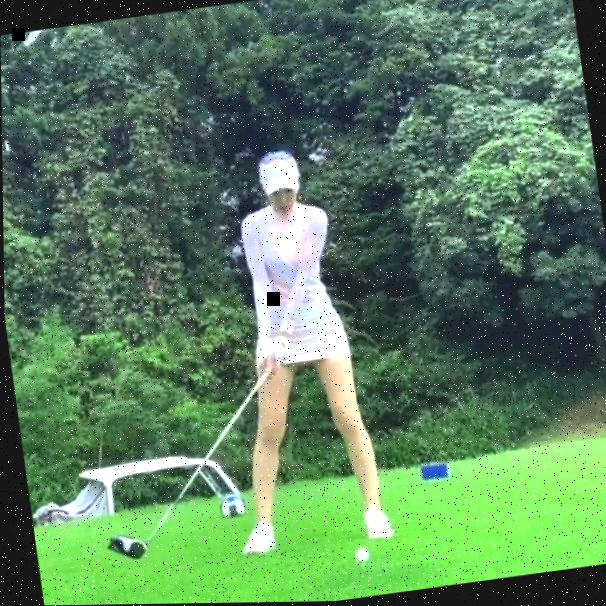ClubHead: (110, 531, 147, 568)
GolfBall: (352, 546, 372, 568)
